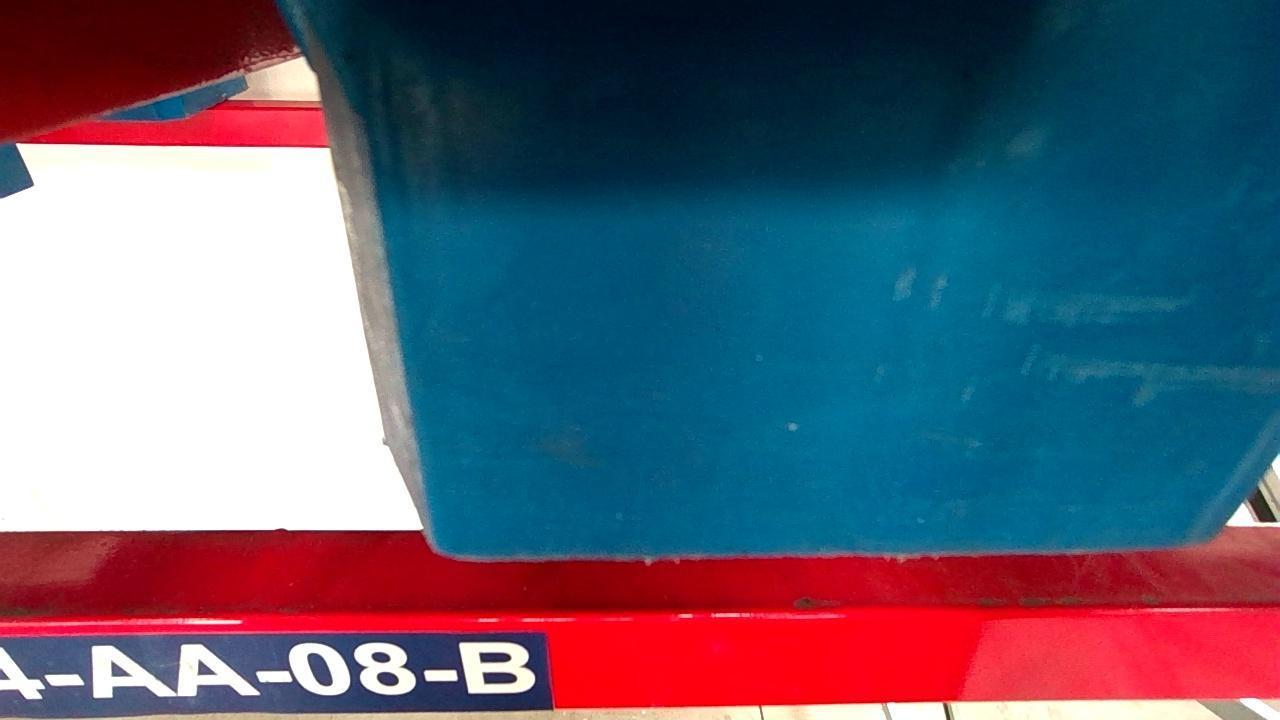h_rack: (1, 608, 1278, 719)
